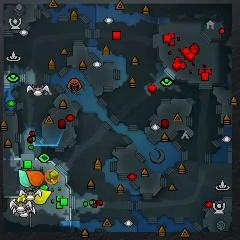Other: (45, 169, 59, 185), (18, 195, 28, 203)
p2: (19, 169, 32, 187)
p4: (34, 190, 51, 205)
p5: (25, 169, 44, 187)
